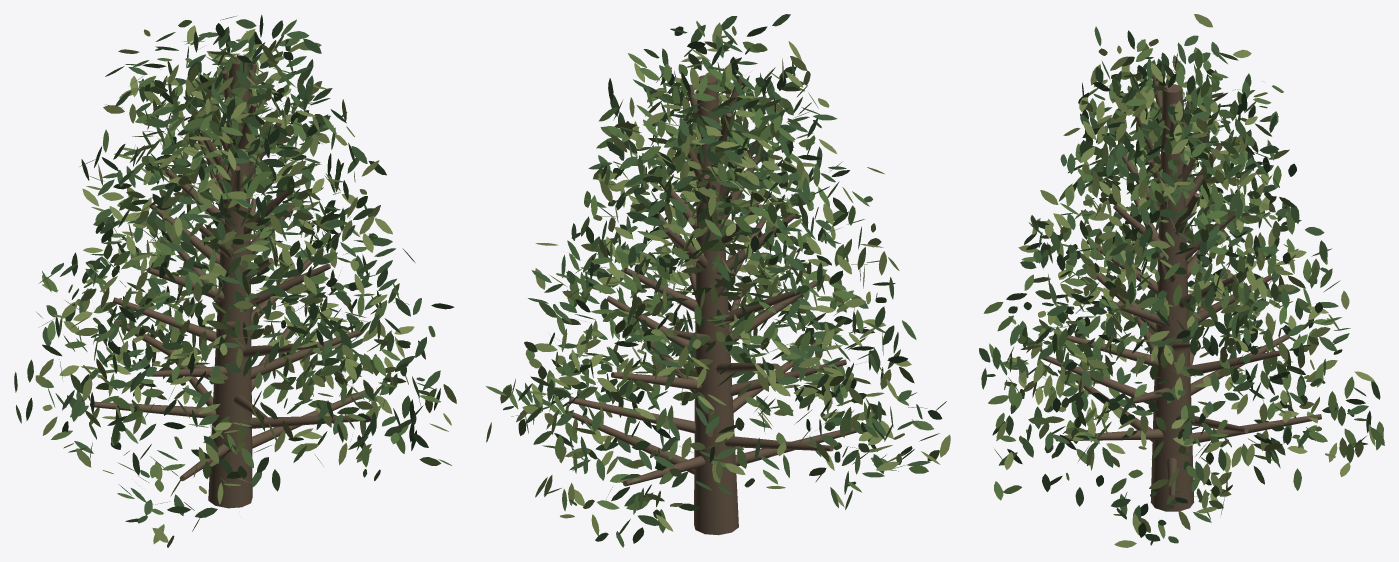
File: pine.glb
The picture shows the model from 3 angles, left to right: view 1: azimuth 30°, elevation 25°; view 2: azimuth 150°, elevation 25°; view 3: azimuth 270°, elevation 25°; orthographic projection. The views are drawn at different scales.
Size of the model in its own units: 4.3 by 5.16 by 4.12.
